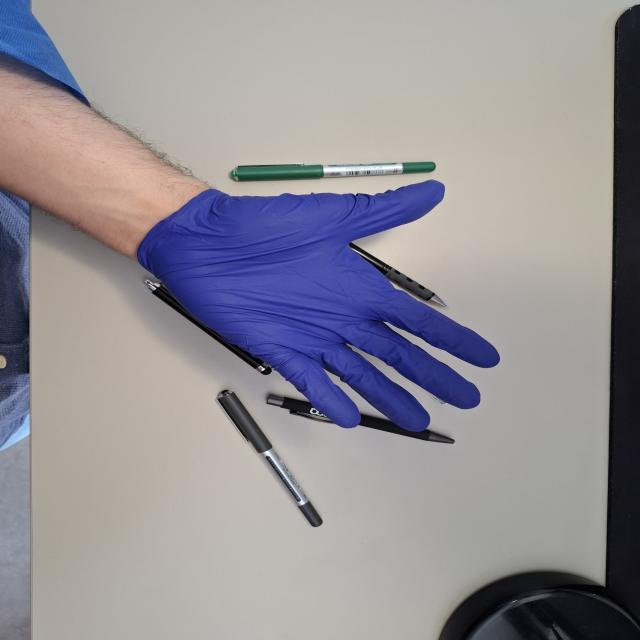glove_on: (134, 178, 504, 432)
